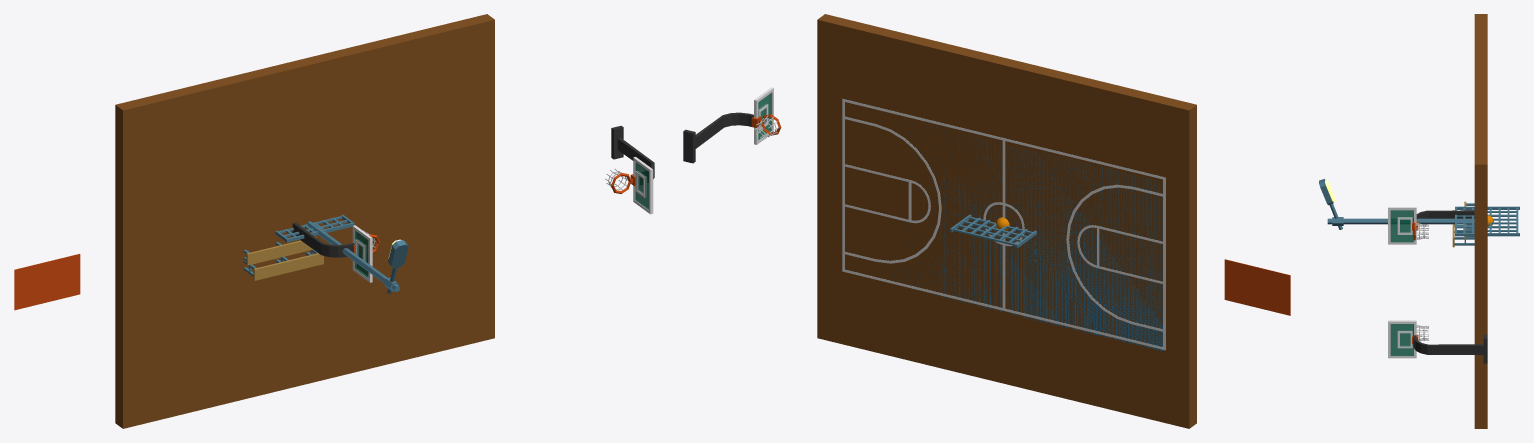
Rendered from basketball-court-028a4d.glb.
3 renders of one model, left to right at view 1: azimuth 30°, elevation 25°; view 2: azimuth 150°, elevation 25°; view 3: azimuth 270°, elevation 25°, orthographic. The views are drawn at different scales.
Visible parts, largest first — view 1: PropMesh; view 2: PropMesh; view 3: PropMesh.
Part boxes in pixels (<box>): PropMesh: <box>14,14,654,428</box>; PropMesh: <box>683,14,1290,428</box>; PropMesh: <box>1319,14,1519,428</box>.
Size of the model in its own units: 4.39 by 2.2 by 1.52.
